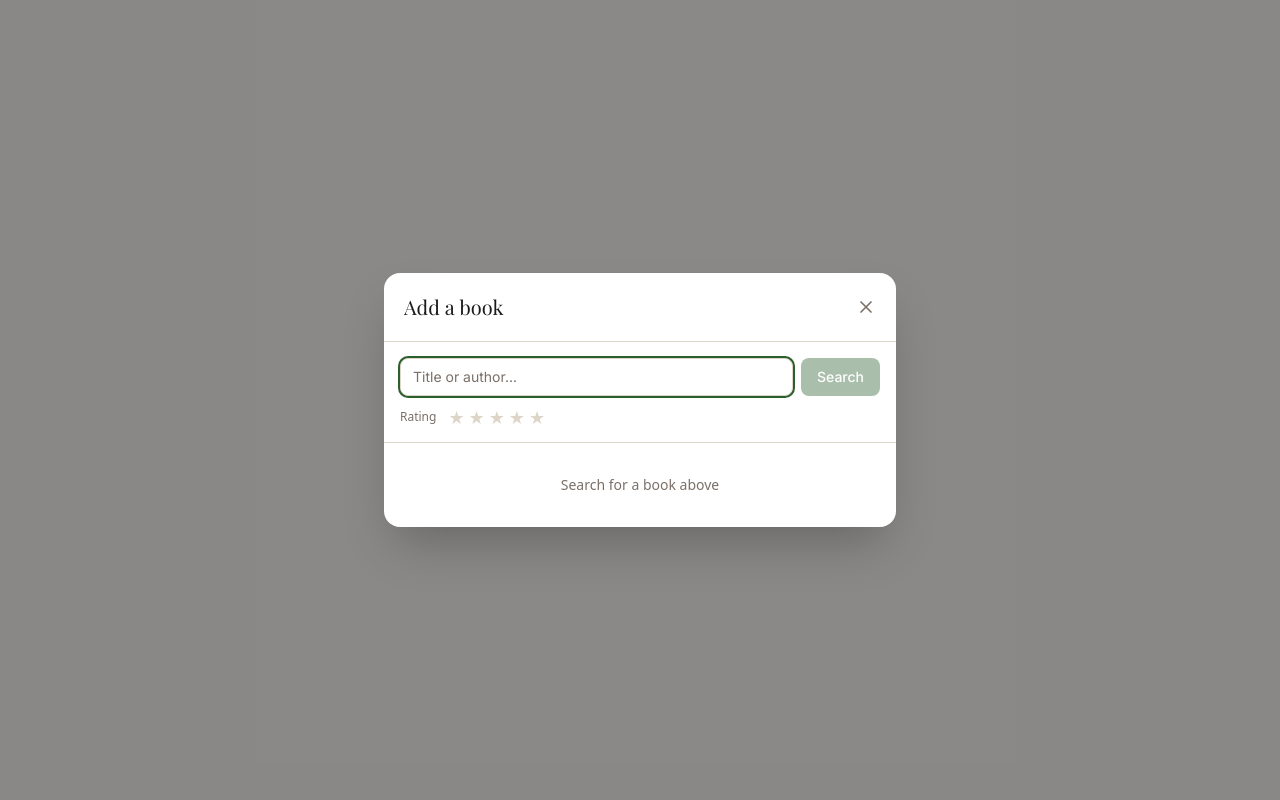
Test: AddBookModal › renders search results
Type "dune" into the field with placeholder "Title or author...".
click(596, 377); type("dune")  # box left=400, top=358, right=793, bottom=396
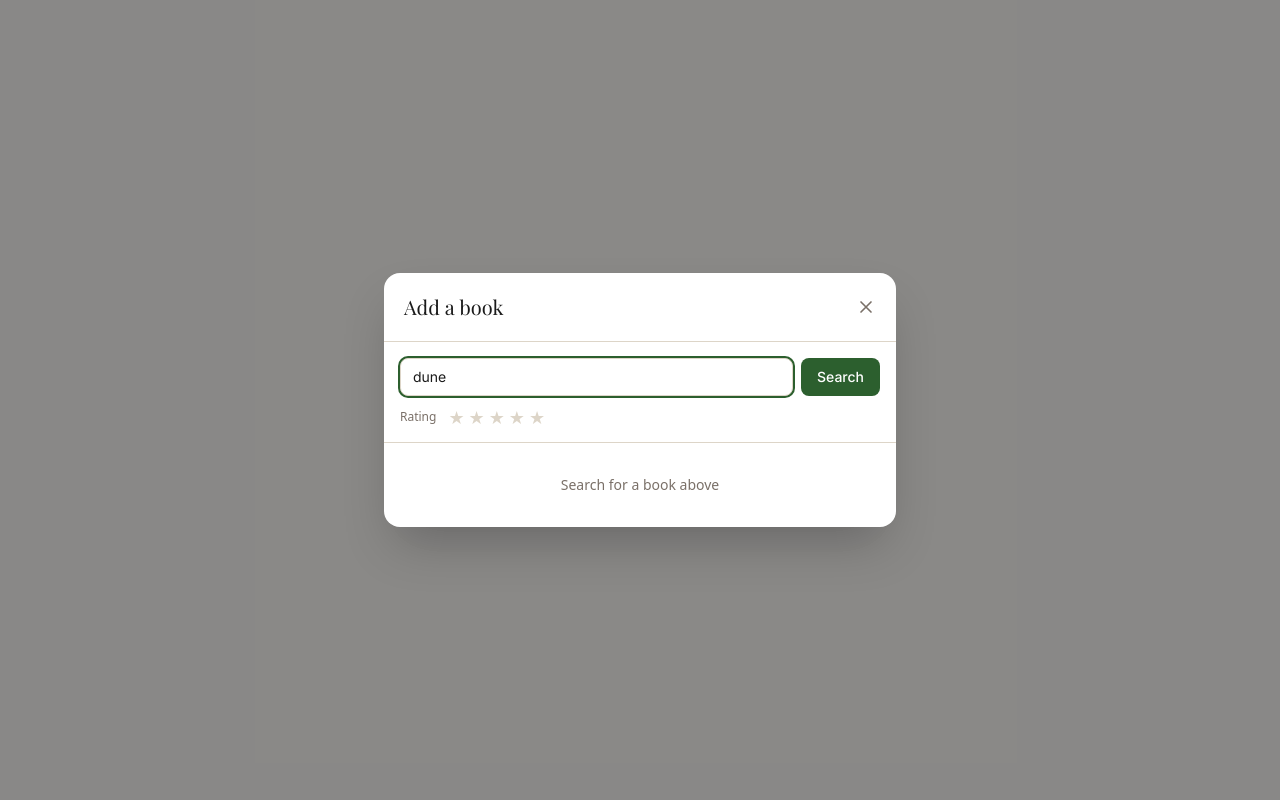
Click the button "Search".
click(840, 377)  # box left=801, top=358, right=880, bottom=396
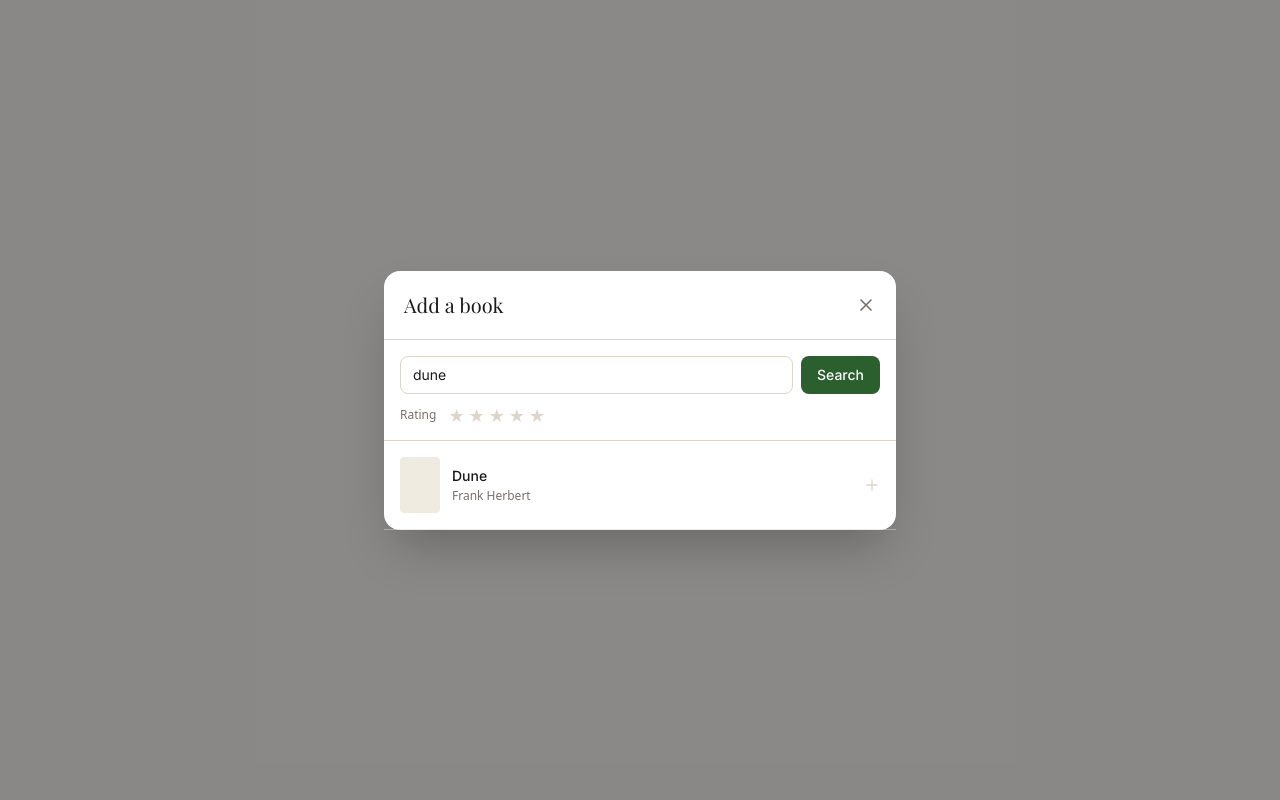
Expected: the text "Dune" is shown, left=452, top=466, right=487, bottom=484
